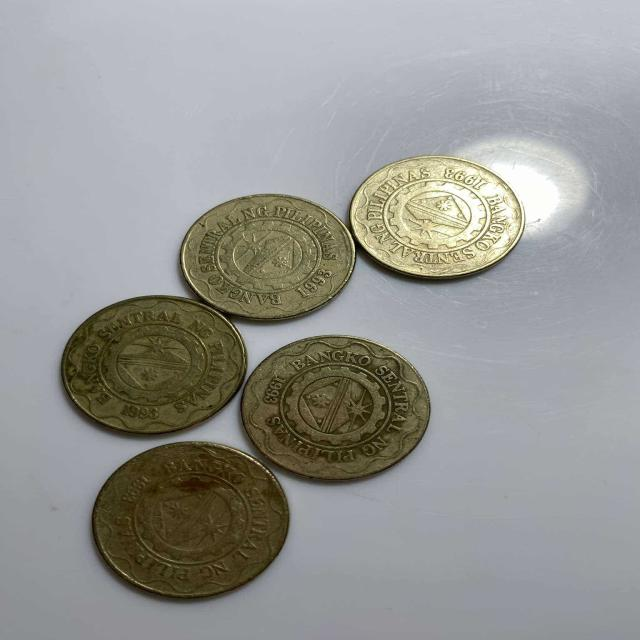5_Old_Back: (94, 444, 294, 588), (246, 338, 435, 479), (65, 296, 242, 429), (187, 192, 357, 316), (357, 150, 521, 274)
